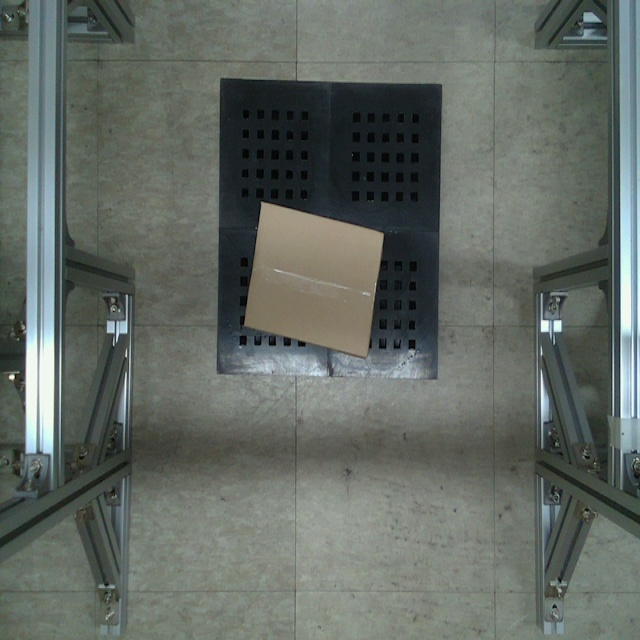box: (244, 199, 381, 356)
pallet: (216, 73, 442, 386)
